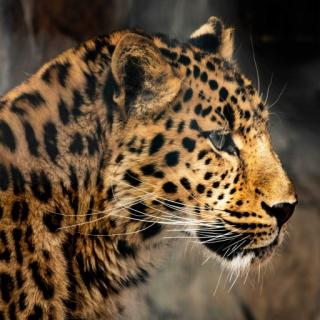Leopard: (3, 14, 294, 320)
